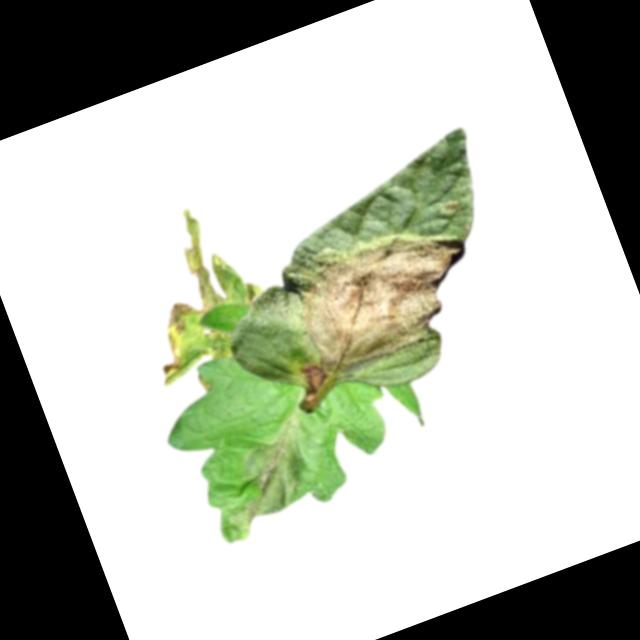Late_blight: (266, 213, 497, 397), (106, 198, 271, 391), (191, 415, 327, 550)
